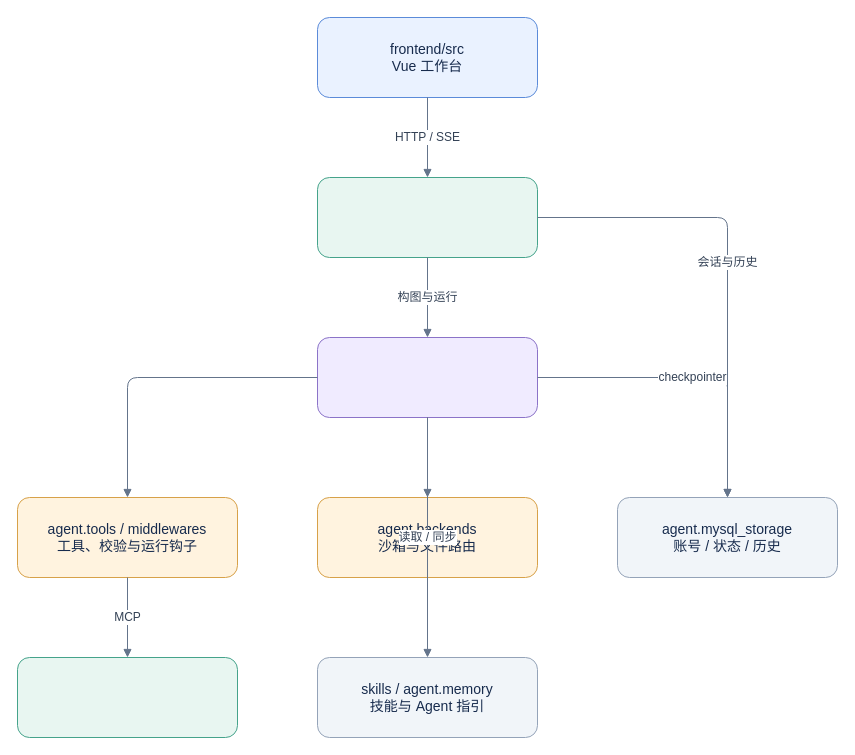
Some shapes in this 855 by 755 pixel diagram are drawn without their labels. Here are the shapes that lost their labels. From the top down, the box of each, then its label:
(316, 176, 538, 258): api_view.web_main API / 认证 / AgentLoader
(316, 336, 538, 418): agent.main_agent 预计算 / 主子 Agent 工厂
(16, 656, 238, 738): mcp_server.server_main ERP MCP → Java REST
